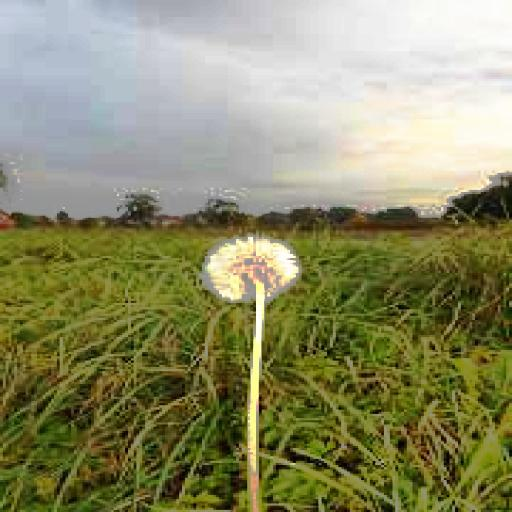dandelion: (202, 234, 301, 300)
